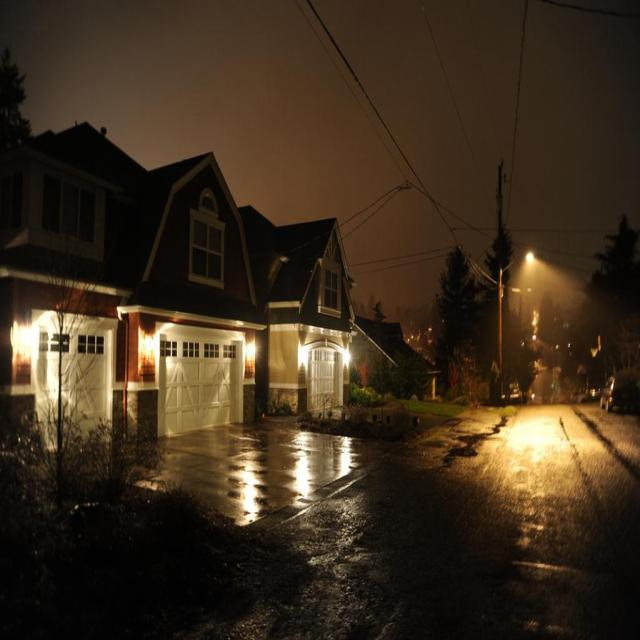other: (506, 408, 565, 449), (518, 241, 551, 297), (288, 338, 315, 372), (333, 335, 359, 369), (242, 336, 260, 366)
